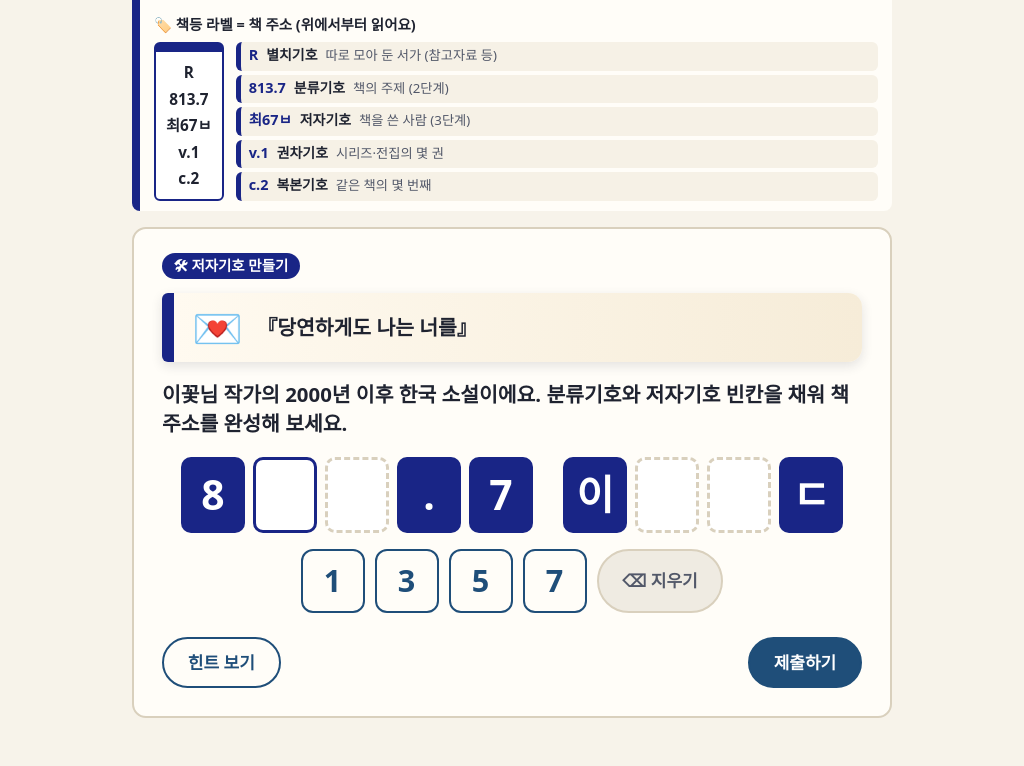
Test case: 게임 4단계: 책 주소 완성하기 › 분류기호와 저자기호 빈칸을 카드로 채워 책 주소를 만든다 (813.7 이15ㄷ)
The width and height of the screenshot is (1024, 766).
(page scrolled)
Click the button named "숫자 1": [332, 581] box [300,549,364,613]
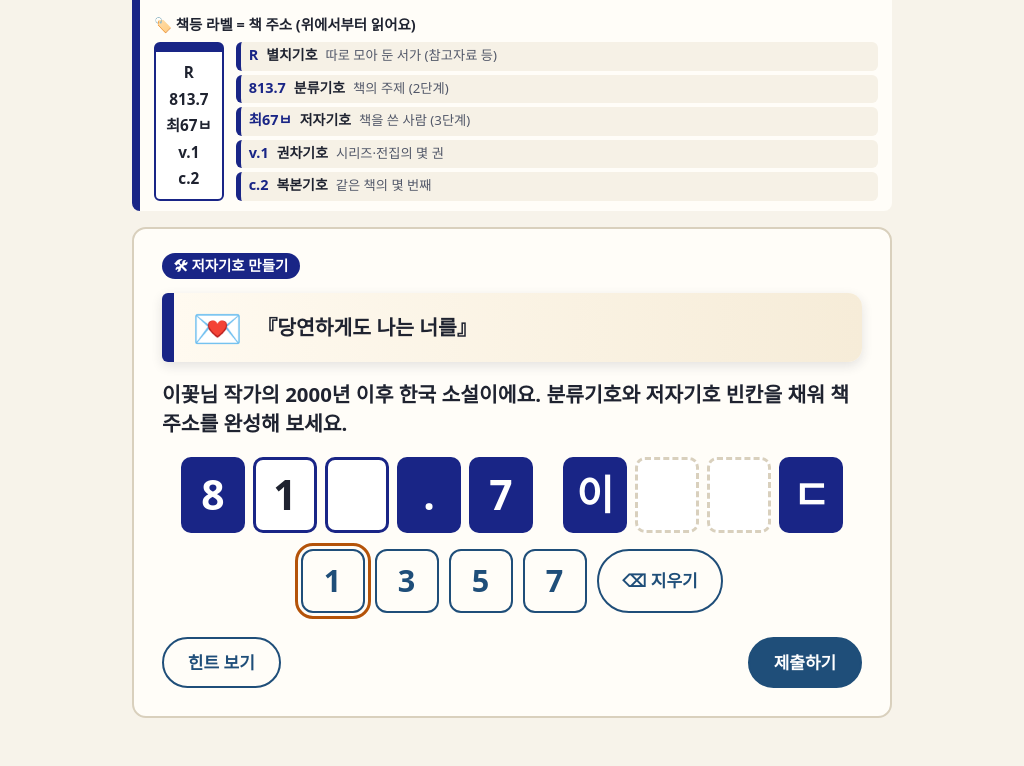
Click the button named "숫자 3": [406, 581] box [374,549,438,613]
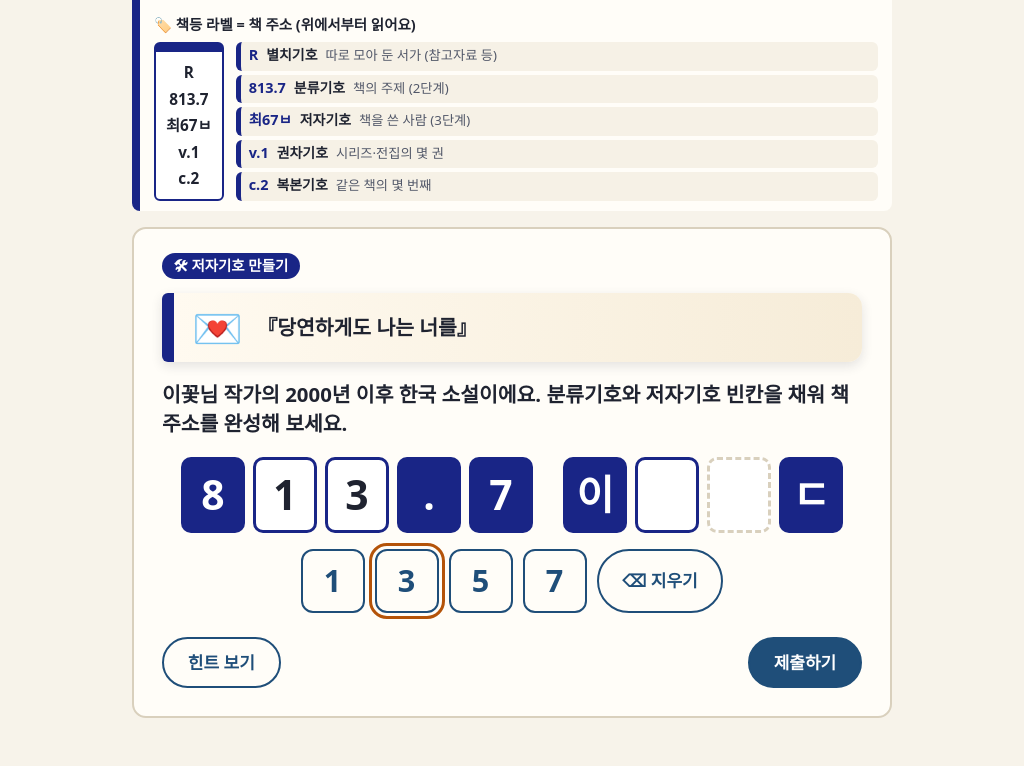
Click the button named "숫자 1": [332, 581] box [300,549,364,613]
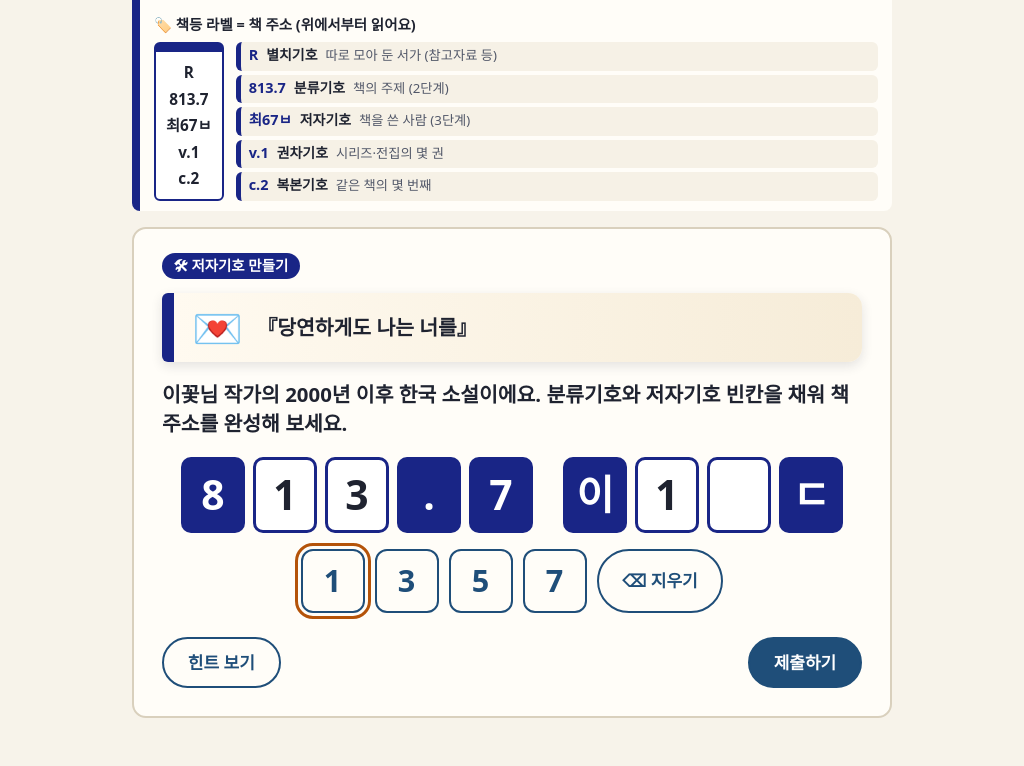
Click the button "5": [480, 581] box [448,549,512,613]
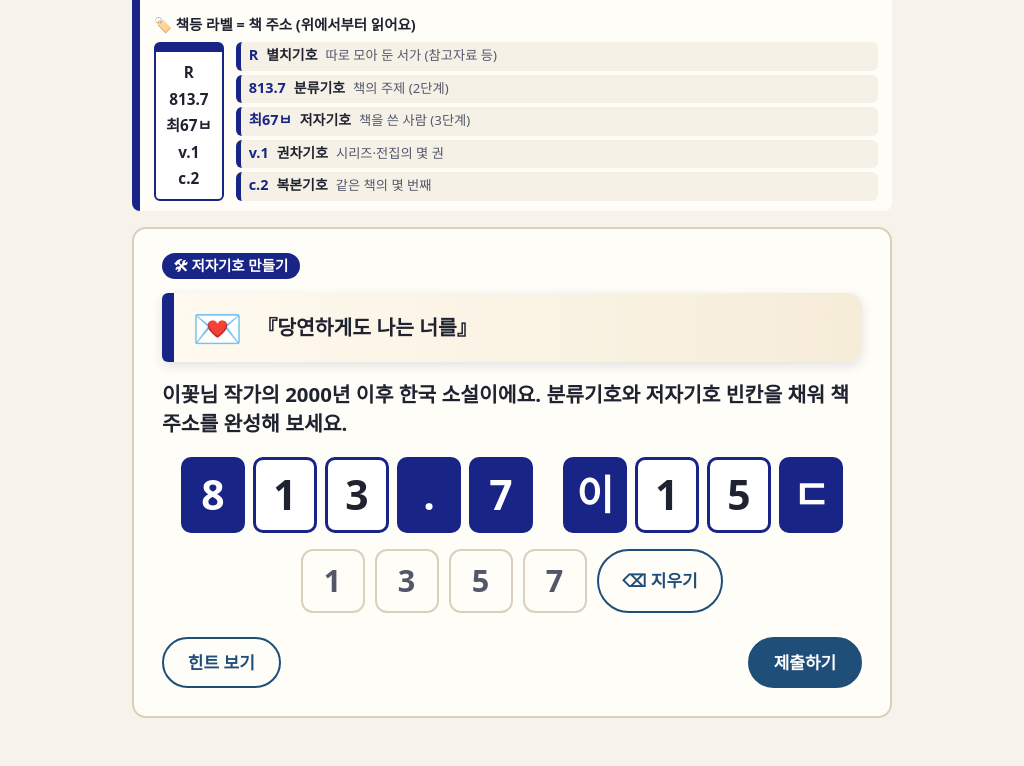
Click the button "제출하기": [805, 662] box [748,637,862,688]
(page scrolled)
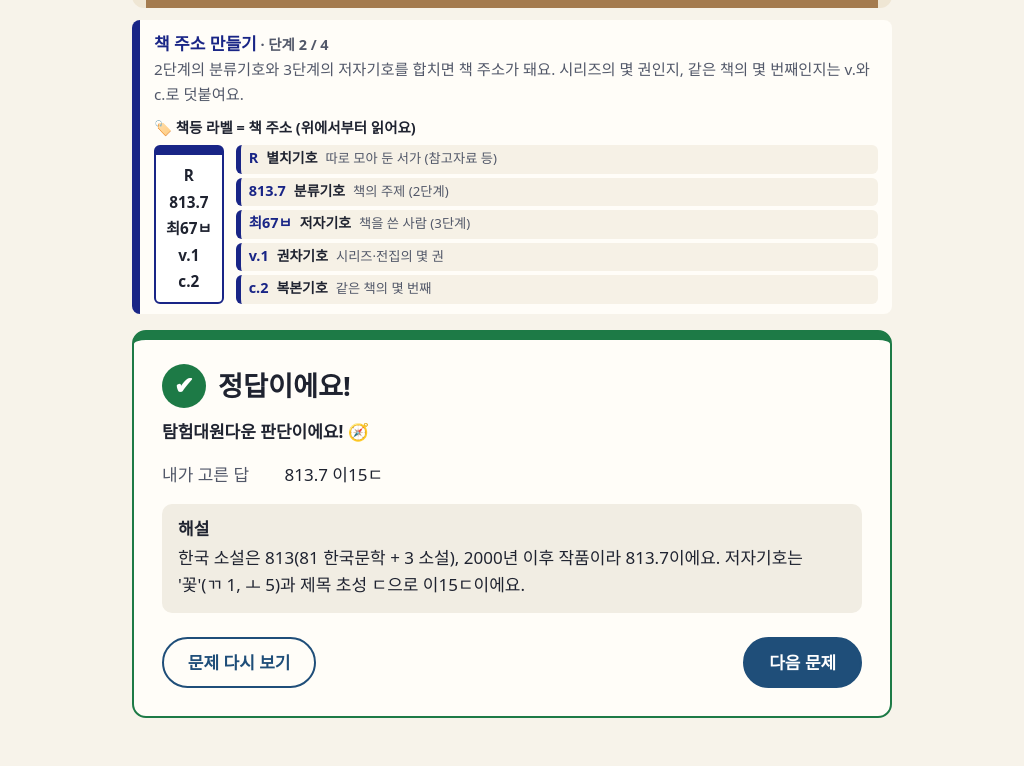
expect the heading "✔ 정답이에요!" is shown: met, box [162,364,351,408]
